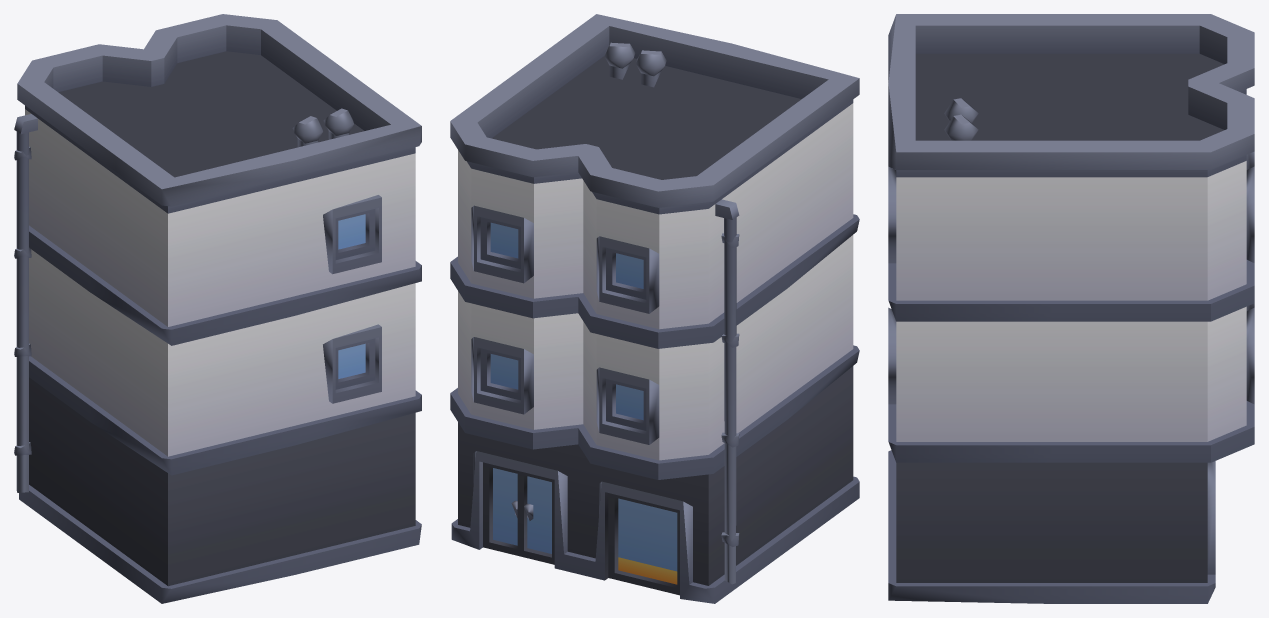
File: 075_city-kit-commercial_building-a_card.glb
3 renders of one model, left to right at view 1: azimuth 30°, elevation 25°; view 2: azimuth 150°, elevation 25°; view 3: azimuth 270°, elevation 25°, orthographic. The views are drawn at different scales.
Visible parts, largest first — view 1: building-a; view 2: building-a; view 3: building-a.
Boxes of the visible parts, x1=… form: building-a: x1=14, y1=14, x2=421, y2=603; building-a: x1=450, y1=14, x2=859, y2=603; building-a: x1=888, y1=14, x2=1254, y2=603.
Size of the model in its own units: 0.8836 by 1.29 by 0.94.
1 material, 1 textured.
